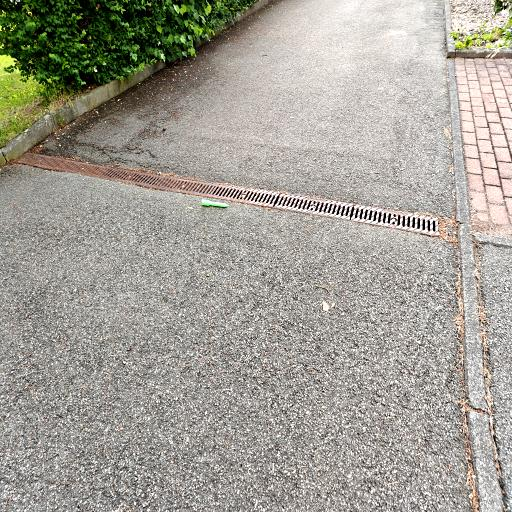Probe-Detection: (202, 199, 228, 207)
